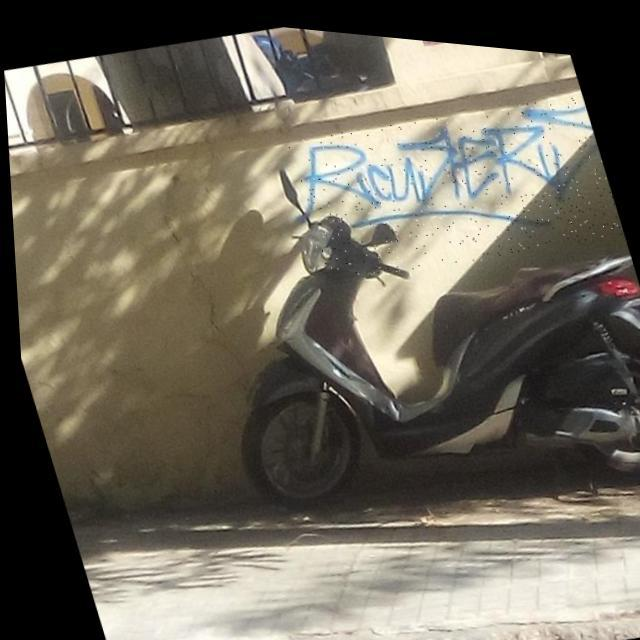-: (278, 60, 626, 301)
